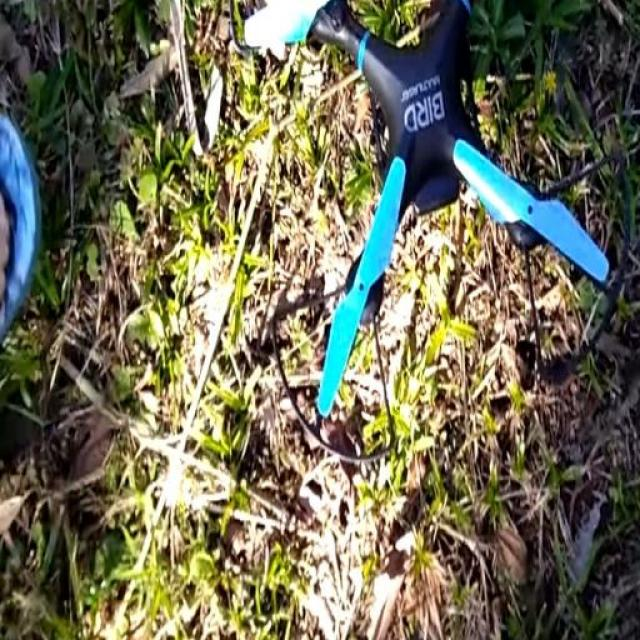bird: (230, 0, 628, 398)
